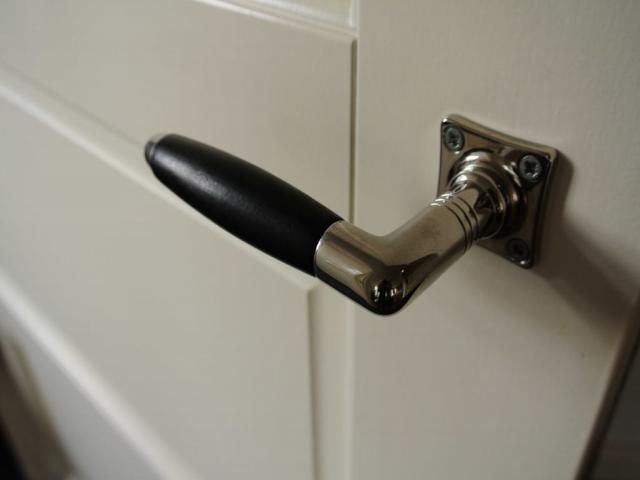Door-handle: (144, 114, 560, 316)
